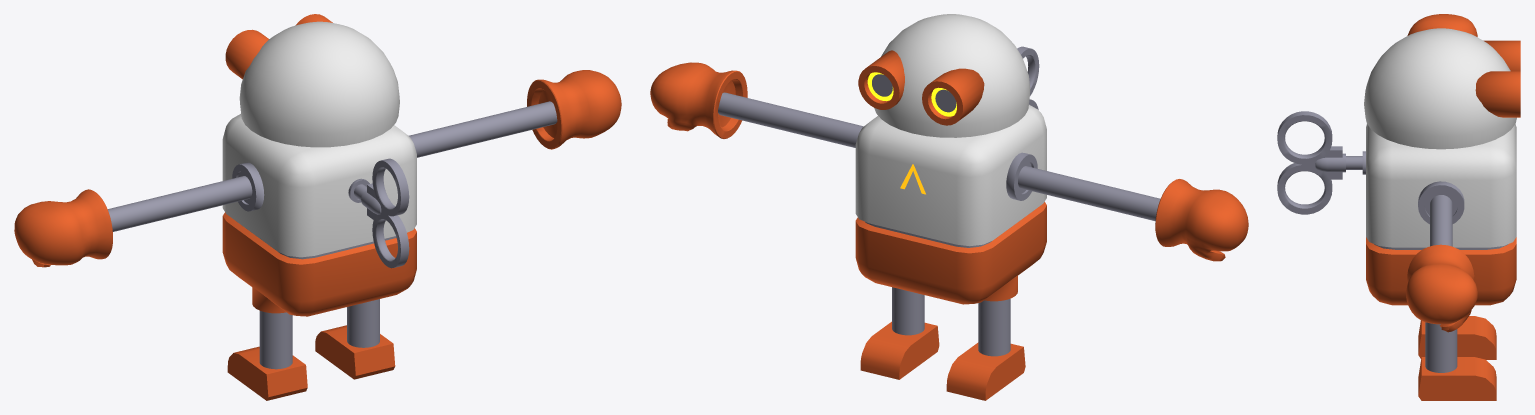
Rendered from Robotillo base 01.fbx.
3 renders of one model, left to right at view 1: azimuth 30°, elevation 25°; view 2: azimuth 150°, elevation 25°; view 3: azimuth 270°, elevation 25°, orthographic. The views are drawn at different scales.
Parts seen in each view (by area): view 1: Cube.001, Cube.002, Cube.003, Cube.004, Cube.005; view 2: Cube.001, Cube.002, Cube.003, Cube.004, Cube.005; view 3: Cube.001, Cube.003, Cube.002, Cube.004, Cube.005.
Part boxes in pixels (x1,y1,x2,y2): Cube.001: (222, 114, 416, 316); Cube.002: (14, 70, 621, 267); Cube.003: (225, 14, 399, 147); Cube.004: (227, 299, 395, 400); Cube.005: (354, 158, 409, 268); Cube.001: (855, 104, 1046, 304); Cube.002: (650, 62, 1248, 261); Cube.003: (858, 14, 1030, 137); Cube.004: (860, 287, 1025, 400); Cube.005: (1017, 46, 1039, 109); Cube.001: (1362, 124, 1516, 305); Cube.003: (1364, 28, 1520, 149); Cube.002: (1406, 14, 1477, 332); Cube.004: (1418, 316, 1496, 400); Cube.005: (1277, 111, 1362, 214).
Size of the model in its own units: 234 by 131 by 85.82.
